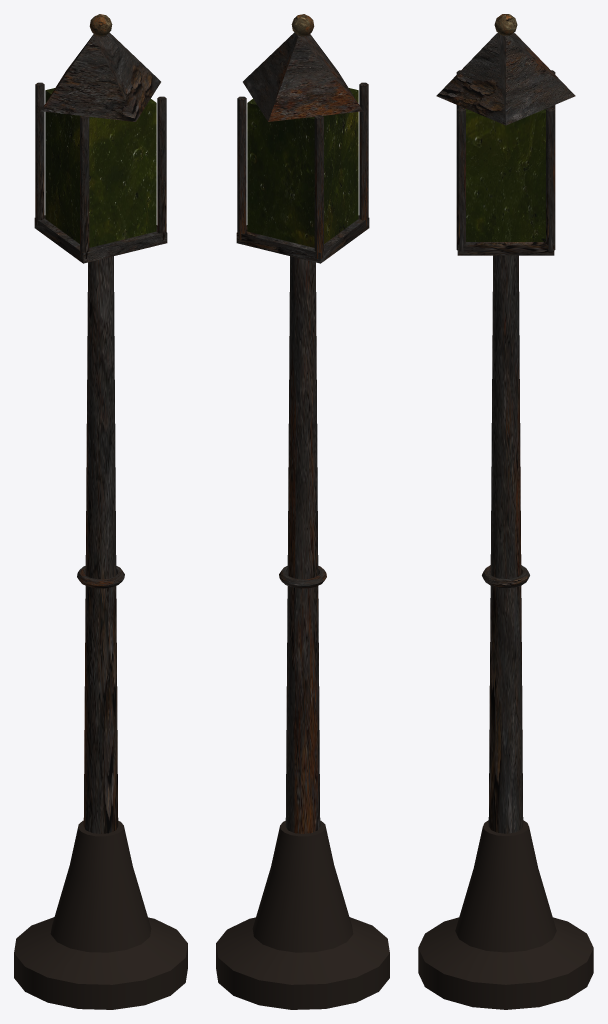
The model's file is street-lamp-v01-photo.glb.
3 renders of one model, left to right at view 1: azimuth 30°, elevation 25°; view 2: azimuth 150°, elevation 25°; view 3: azimuth 270°, elevation 25°, orthographic.
Parts seen in each view (by area): view 1: street-lamp; view 2: street-lamp; view 3: street-lamp.
Part boxes in pixels (x1,y1,x2,y2): street-lamp: (14, 14, 187, 1009); street-lamp: (216, 14, 389, 1009); street-lamp: (418, 14, 593, 1009).
Bounding box in the file's own units: 0.76 × 4.58 × 0.76.
Materials: 3 (3 with a texture image).
